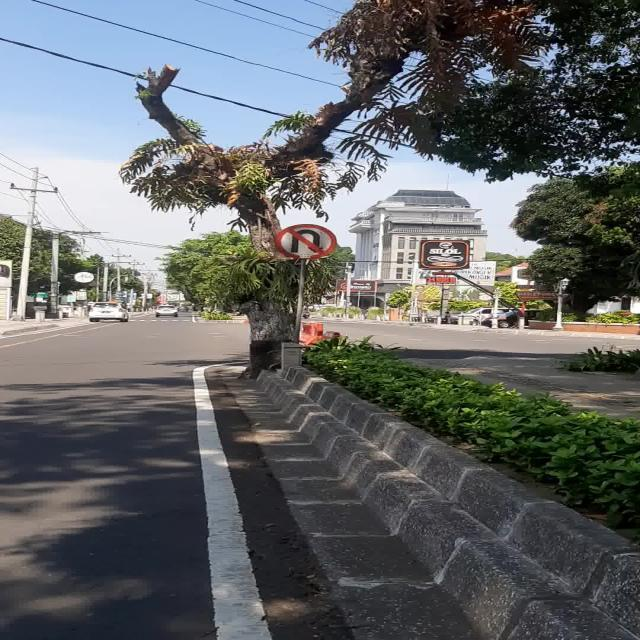Dilarang Putar Balik: (274, 223, 338, 260)
